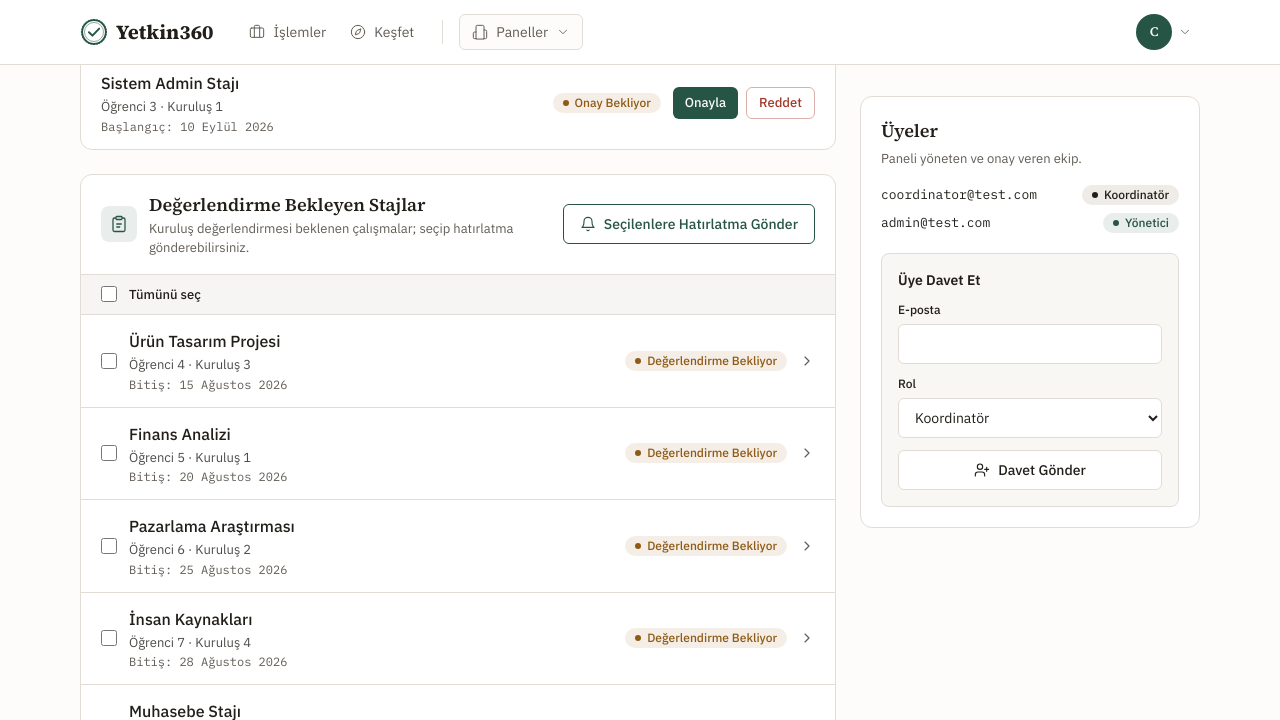
Test: KurumPanelPage (/kurum/[id]/panel) › YET-202/ENT-01: Toplu hatırlatma › bir staj seçilip gönderilince createReminders seçili id ile çağrılır
(page scrolled)
expect the text "Ürün Tasarım Projesi" is shown: met, box [129, 331, 280, 351]
What coordinates should you click on to do the following:
click the checkbox named "Ürün Tasarım Projesi"
I would click on:
 (109, 361)
Its box is [101, 353, 117, 369].
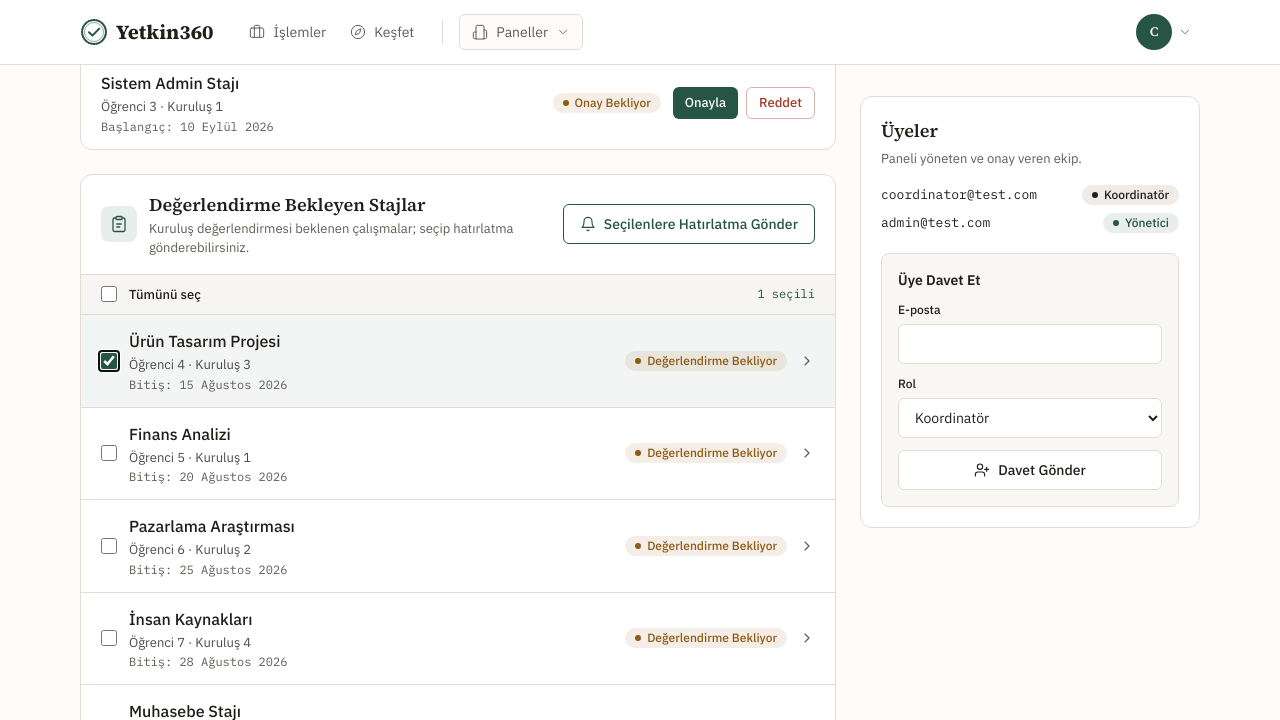
What coordinates should you click on to do the following:
click the button "Seçilenlere Hatırlatma Gönder"
I would click on:
 (689, 224)
Its box is [563, 204, 815, 244].
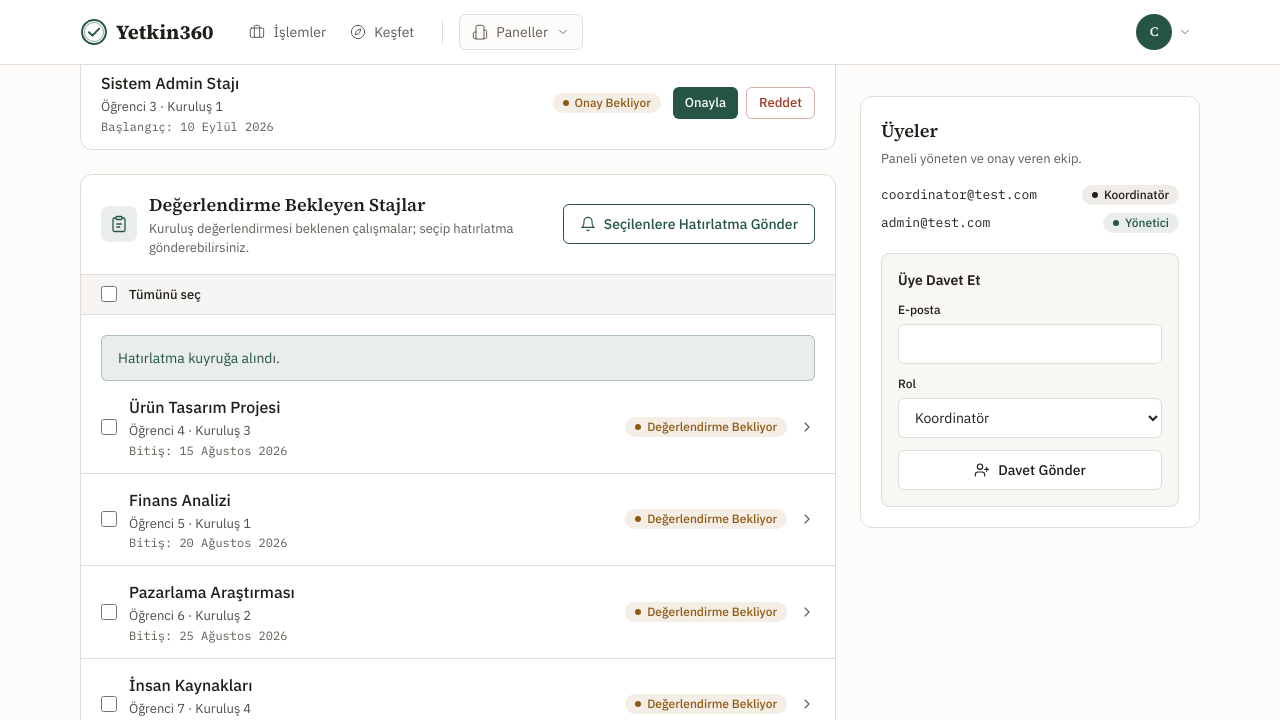
expect the text "Hatırlatma kuyruğa alındı." is shown: met, box [101, 335, 815, 381]
